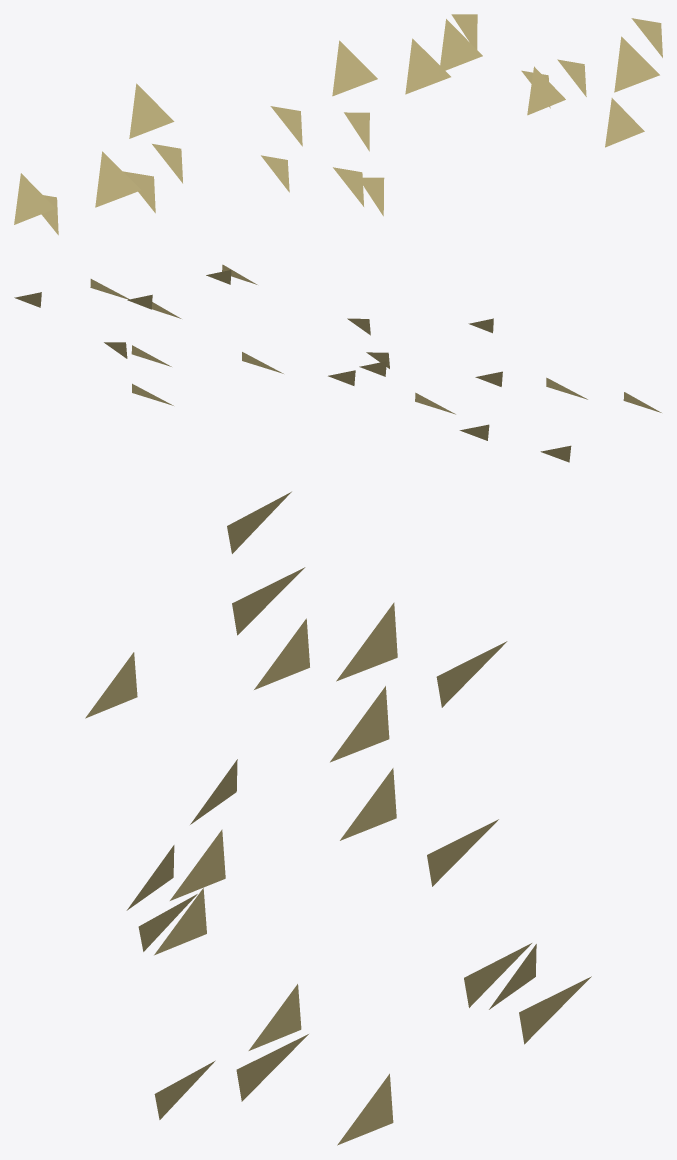
The model's file is xiyuan-vegetation-01-far.glb.
3 views of the same model, one above another, from view 1: azimuth 30°, elevation 25°; view 2: azimuth 150°, elevation 25°; view 3: azimuth 270°, elevation 25° (orthographic). The views are drawn at different scales.
Visible parts, largest first — view 1: scalloped lotus leaves; view 2: scalloped lotus leaves; view 3: scalloped lotus leaves.
Part boxes in pixels (box(x1,y1,x2,y2)): scalloped lotus leaves: box(14, 14, 662, 235); scalloped lotus leaves: box(14, 264, 661, 462); scalloped lotus leaves: box(85, 491, 591, 1145).
Size of the model in its own units: 12.1 by 1.56 by 4.38.
